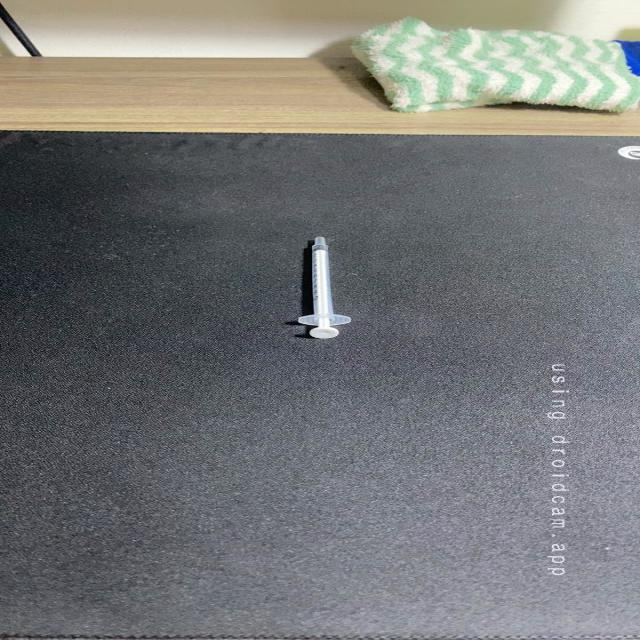syringe: (294, 232, 356, 341)
